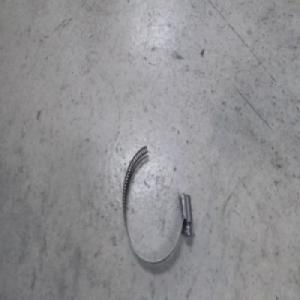AdjustableClamp: (119, 141, 190, 263)
